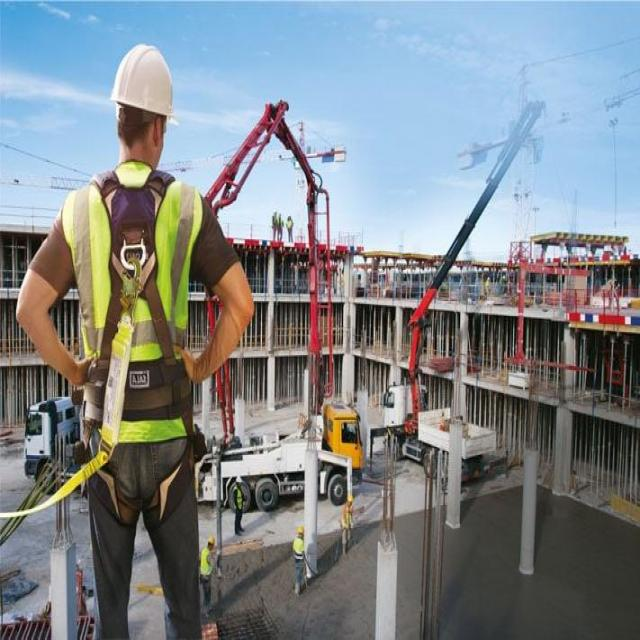Reflective-Jacket: (60, 166, 206, 456)
Safety-Helmet: (106, 41, 180, 126)
